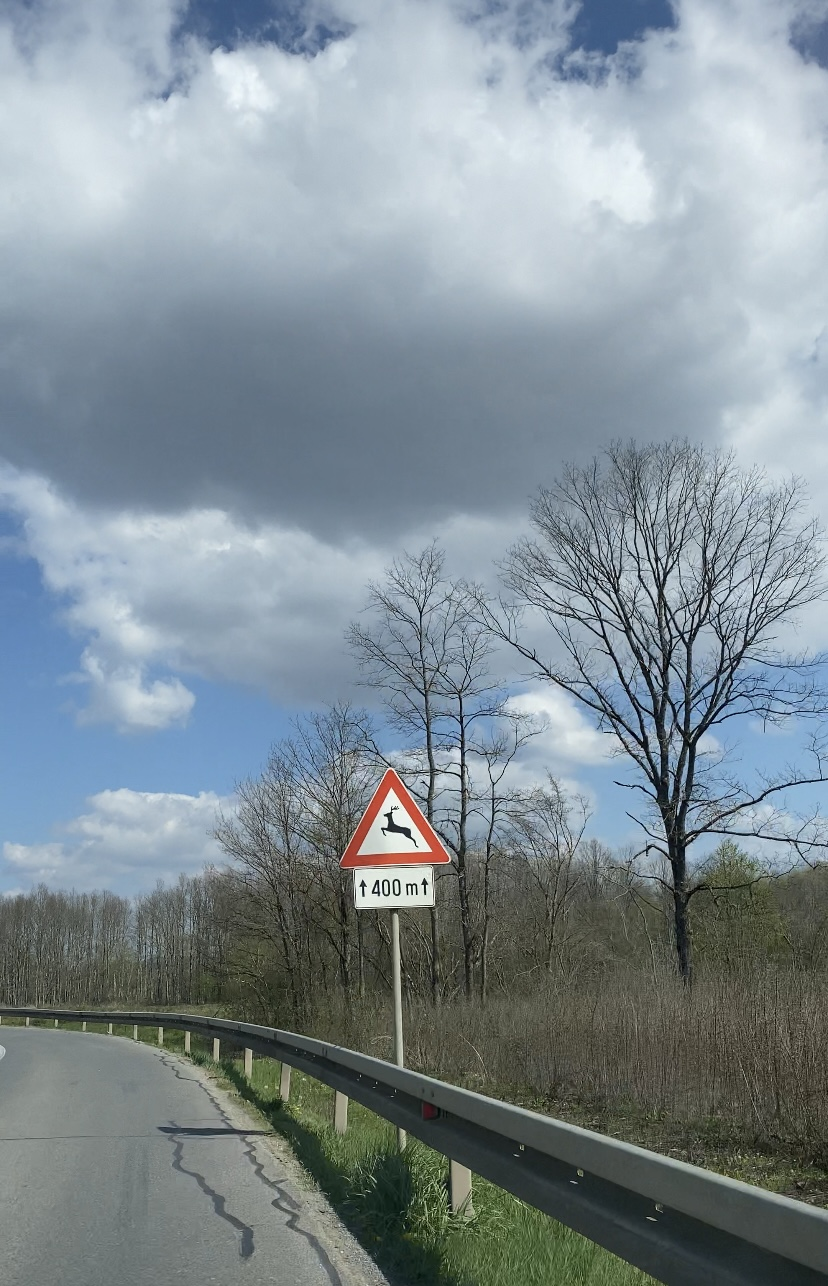Divljač na cesti: (339, 768, 451, 870)
